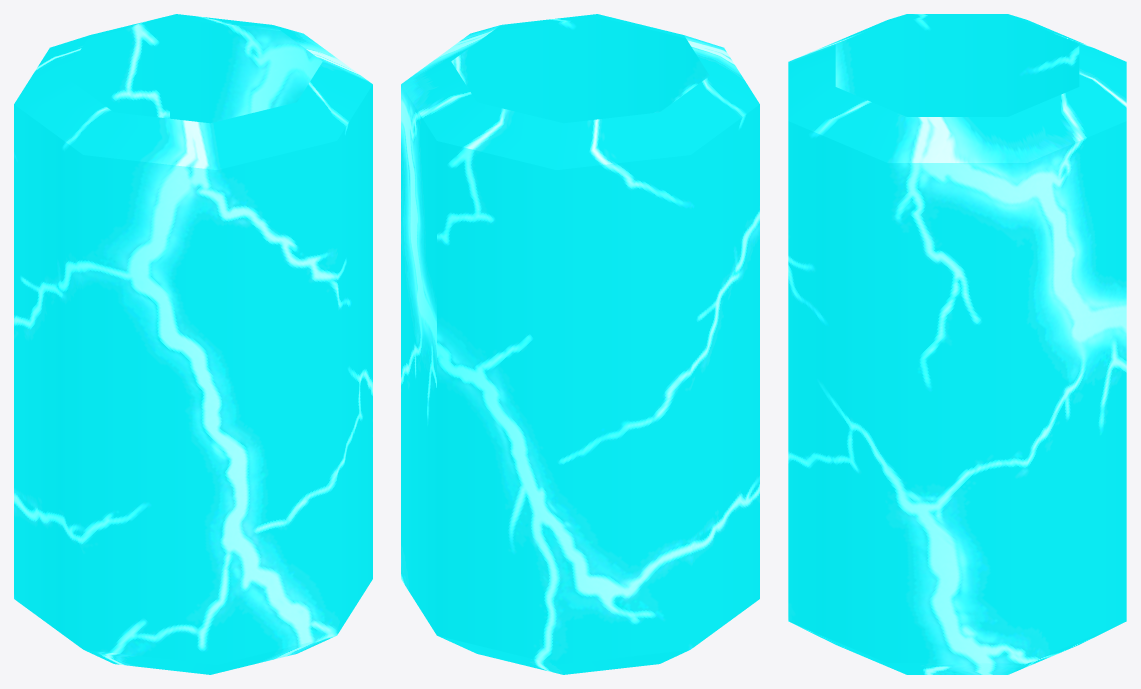
File: finalBoss-reactors1Lightning.glb
The picture shows the model from 3 angles, left to right: view 1: azimuth 30°, elevation 25°; view 2: azimuth 150°, elevation 25°; view 3: azimuth 270°, elevation 25°; orthographic projection.
Parts seen in each view (by area): view 1: reactor1Lightning; view 2: reactor1Lightning; view 3: reactor1Lightning.
Part boxes in pixels (<box>): reactor1Lightning: <box>14,14,372,674</box>; reactor1Lightning: <box>401,14,759,674</box>; reactor1Lightning: <box>788,14,1126,674</box>.
Bounding box in the file's own units: 0.504 × 0.9172 × 0.504.
1 material, 1 textured.
